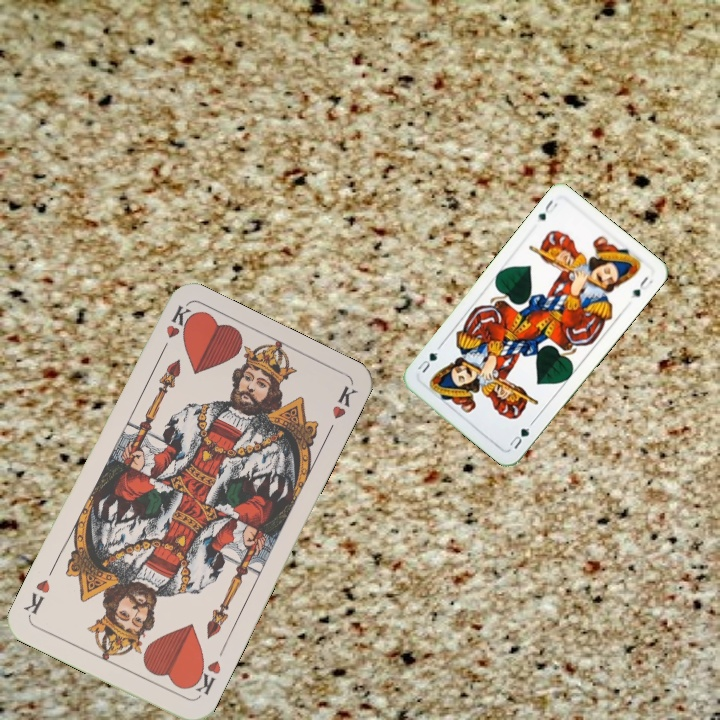GU: (505, 418, 536, 452), (533, 195, 560, 223)
HK: (155, 302, 194, 359), (186, 656, 224, 698)
